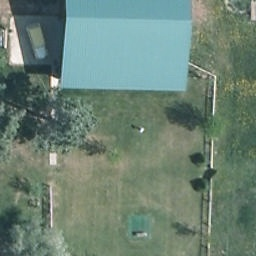car: (26, 24, 51, 61)
